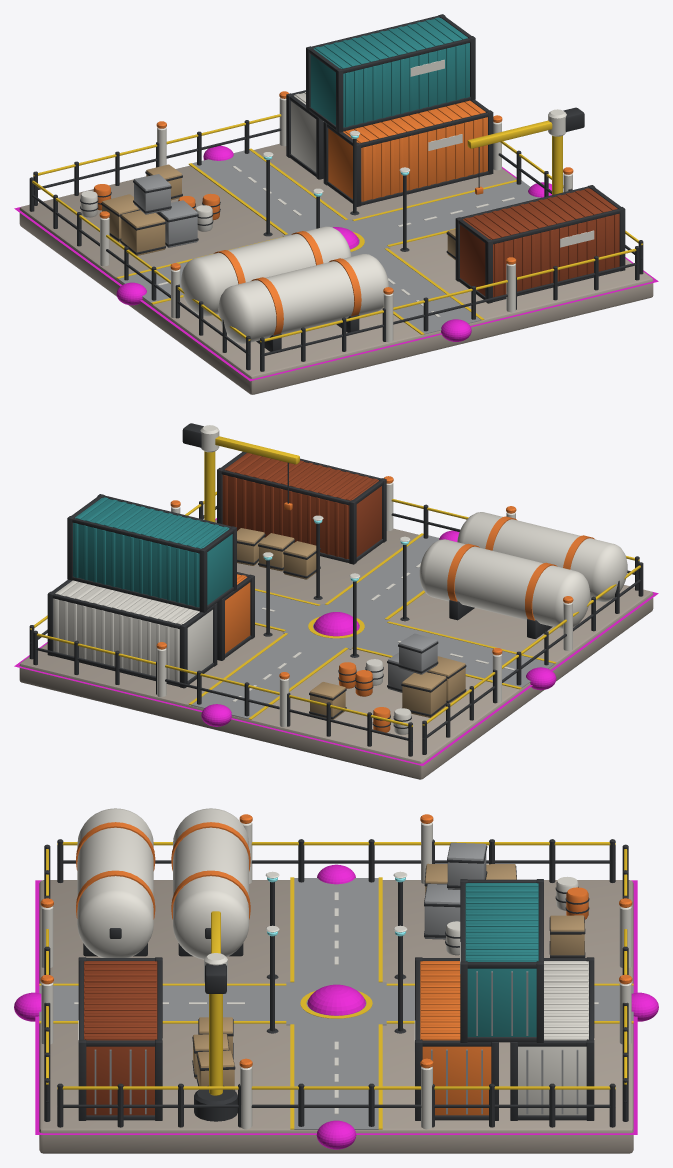
The model's file is storage_3x3.gltf.
3 views of the same model, one above another, from view 1: azimuth 30°, elevation 25°; view 2: azimuth 150°, elevation 25°; view 3: azimuth 270°, elevation 25° (orthographic). The views are drawn at different scales.
Parts seen in each view (by area): view 1: StorageYard, %V%AnchorOut.003+, %V%AnchorOut.001+, %V%AnchorOut.002+, %V%AnchorOut+, %P%Footprint, %V%AnchorOut.003-, %V%AnchorOut.002-, %V%AnchorOut-, %V%AnchorOut.001-, %P%AnchorOut.002, %P%AnchorOut; view 2: StorageYard, %V%AnchorOut.003+, %V%AnchorOut+, %V%AnchorOut.002+, %V%AnchorOut.001+, %P%Footprint, %V%AnchorOut.003-, %P%Center, %V%AnchorOut-, %V%AnchorOut.002-, %P%AnchorOut.003, %P%AnchorOut; view 3: StorageYard, %V%AnchorOut+, %V%AnchorOut.001+, %V%AnchorOut.002+, %V%AnchorOut.003+, %P%Footprint, %V%AnchorOut-, %V%AnchorOut.001-, %P%Center, %P%AnchorOut.001, %P%AnchorOut.002, %P%AnchorOut.003 (+1 smaller).
Part boxes in pixels (left/top/right/bottom): StorageYard: left=19, top=14, right=653, bottom=394; %V%AnchorOut.003+: left=156, top=91, right=347, bottom=234; %V%AnchorOut.001+: left=352, top=115, right=573, bottom=246; %V%AnchorOut.002+: left=366, top=248, right=516, bottom=342; %V%AnchorOut+: left=99, top=211, right=283, bottom=317; %P%Footprint: left=14, top=167, right=658, bottom=381; %V%AnchorOut.003-: left=166, top=114, right=281, bottom=165; %V%AnchorOut.002-: left=393, top=280, right=507, bottom=331; %V%AnchorOut-: left=106, top=234, right=170, bottom=300; %V%AnchorOut.001-: left=498, top=141, right=563, bottom=196; %P%AnchorOut.002: left=441, top=319, right=471, bottom=341; %P%AnchorOut: left=116, top=282, right=146, bottom=305; StorageYard: left=19, top=423, right=653, bottom=779; %V%AnchorOut.003+: left=156, top=633, right=348, bottom=727; %V%AnchorOut+: left=352, top=596, right=573, bottom=702; %V%AnchorOut.002+: left=325, top=476, right=516, bottom=619; %V%AnchorOut.001+: left=170, top=500, right=320, bottom=631; %P%Footprint: left=14, top=518, right=658, bottom=765; %V%AnchorOut.003-: left=165, top=664, right=279, bottom=716; %P%Center: left=313, top=612, right=359, bottom=636; %V%AnchorOut-: left=502, top=619, right=566, bottom=685; %V%AnchorOut.002-: left=391, top=499, right=468, bottom=538; %P%AnchorOut.003: left=201, top=704, right=231, bottom=726; %P%AnchorOut: left=526, top=667, right=556, bottom=690; StorageYard: left=39, top=808, right=633, bottom=1153; %V%AnchorOut+: left=239, top=814, right=433, bottom=982; %V%AnchorOut.001+: left=239, top=1024, right=433, bottom=1129; %V%AnchorOut.002+: left=39, top=898, right=286, bottom=1044; %V%AnchorOut.003+: left=386, top=898, right=633, bottom=1044; %P%Footprint: left=35, top=880, right=637, bottom=1134; %V%AnchorOut-: left=251, top=839, right=421, bottom=882; %V%AnchorOut.001-: left=251, top=1083, right=421, bottom=1126; %P%Center: left=307, top=984, right=365, bottom=1015; %P%AnchorOut.001: left=316, top=1120, right=356, bottom=1149; %P%AnchorOut.002: left=14, top=992, right=41, bottom=1021; %P%AnchorOut.003: left=631, top=992, right=658, bottom=1021.
Size of the model in its own units: 6.42 by 2 by 6.42.
